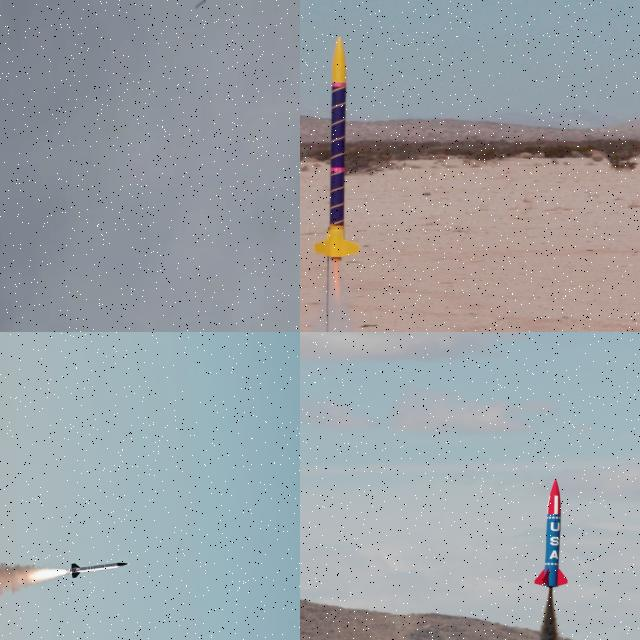Rocket: (313, 36, 362, 262), (533, 478, 569, 589), (70, 562, 128, 578), (195, 0, 206, 9)
